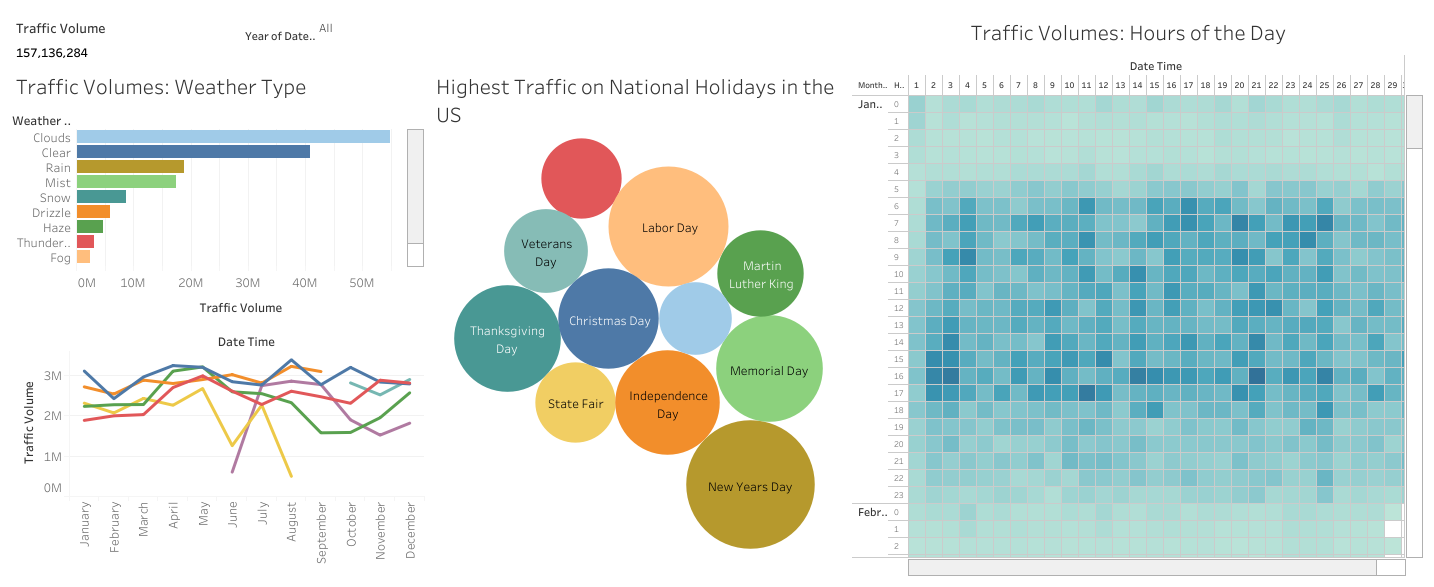

This screenshot's page, from the dashboard's own definition file:
{"tool":"tableau","page":{"name":"Dashboard 1","canvas":[1000,1000],"units":"permille","ordinal":0},"visuals":[{"type":"worksheet","title":"Sheet 5","mark":"Automatic","box":[6.8,13.3,584.3,91.4]},{"type":"worksheet","title":"Traffiv vol2","mark":"Automatic","rows":["date_time","date_time"],"cols":["date_time"],"box":[591,13.3,402.2,973.4]},{"type":"filter","title":"Traffiv vol2","param":"[federated.1l47zdg04e6v991h996r71vosyax].[yr:date_time:ok]","box":[170.9,31.6,300.8,56.5]},{"type":"worksheet","title":"Traffic vol3","mark":"Automatic","rows":["weather_main"],"cols":["traffic_volume"],"box":[6.8,104.6,292.1,451.8]},{"type":"worksheet","title":"Traffic vol4","mark":"Circle","box":[298.9,104.6,292.2,882.1]},{"type":"worksheet","title":"Traffic vol","mark":"Automatic","rows":["traffic_volume"],"cols":["date_time"],"box":[6.8,556.5,292.1,430.2]}]}

Visuals, with their boxes on the dashboard's canvas, which has no fixed pixel size, in thousandths of its width and height (x1, y1, x2, y2). These are canvas units, not pixel positions in the 1434x587 screenshot, which may show the page scaled, cropped or inside an application window:
"Sheet 5" worksheet: [x1=7, y1=13, x2=591, y2=105]
"Traffiv vol2" worksheet: [x1=591, y1=13, x2=993, y2=987]
"Traffiv vol2" filter: [x1=171, y1=32, x2=472, y2=88]
"Traffic vol3" worksheet: [x1=7, y1=105, x2=299, y2=556]
"Traffic vol4" worksheet (Circle marks): [x1=299, y1=105, x2=591, y2=987]
"Traffic vol" worksheet: [x1=7, y1=556, x2=299, y2=987]
